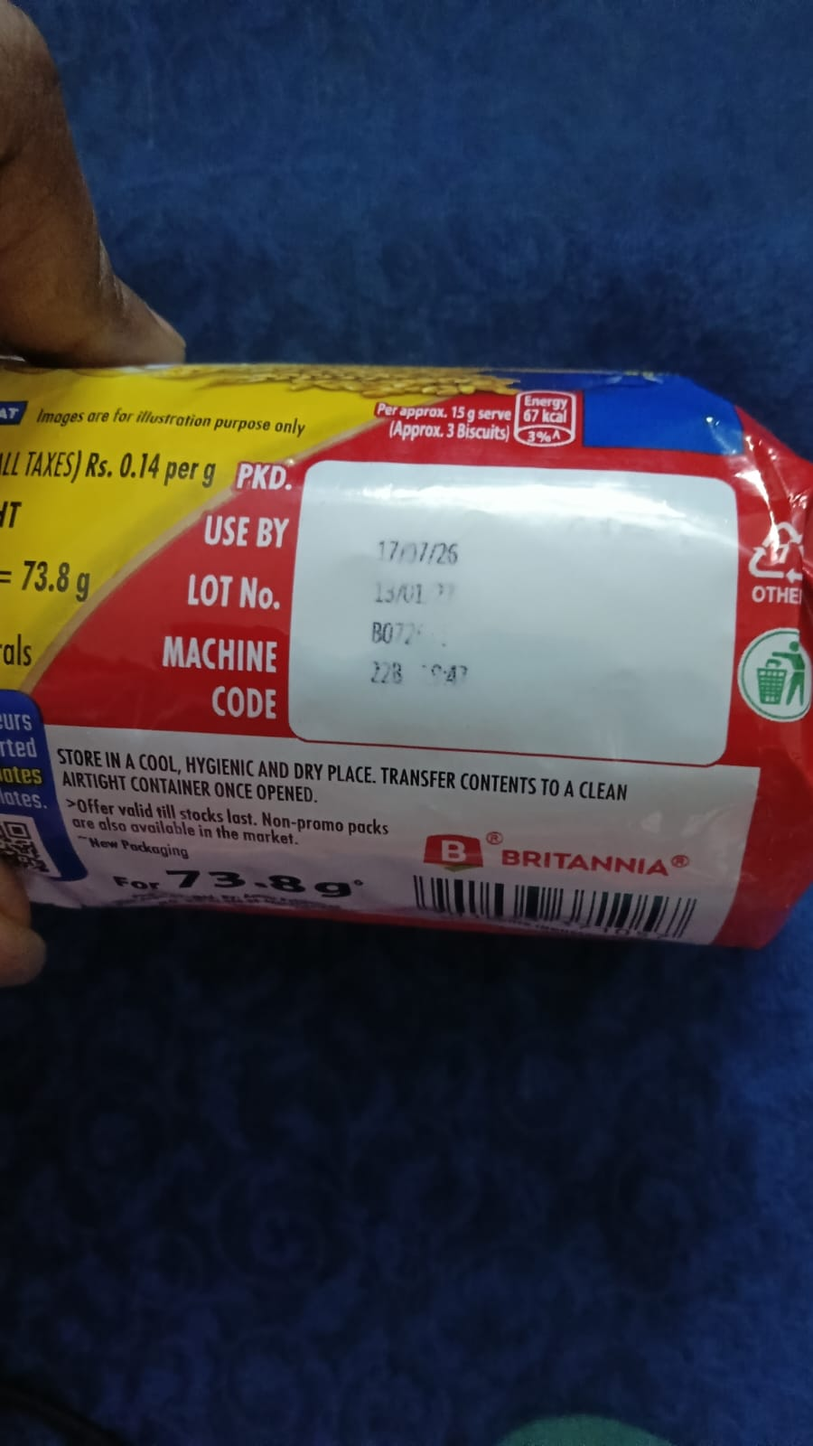mfg_date: (230, 457, 542, 521)
